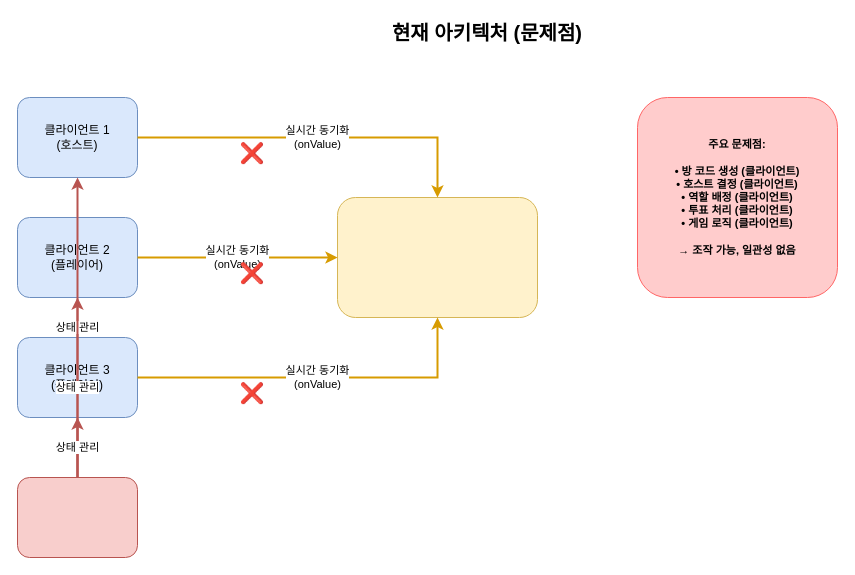
This 855x575 diagram has some shape labels left out. The shapes that lost their labels are listed below. From the top down, each one's centre as x and y in pixels, then its label:
the point at 437,257: Firebase Realtime Database ❌ 서버 없음 ❌ 로직 검증 없음 ❌ 보안 취약
the point at 77,517: Valtio 상태관리 ❌ 클라이언트에서 게임 로직 처리
